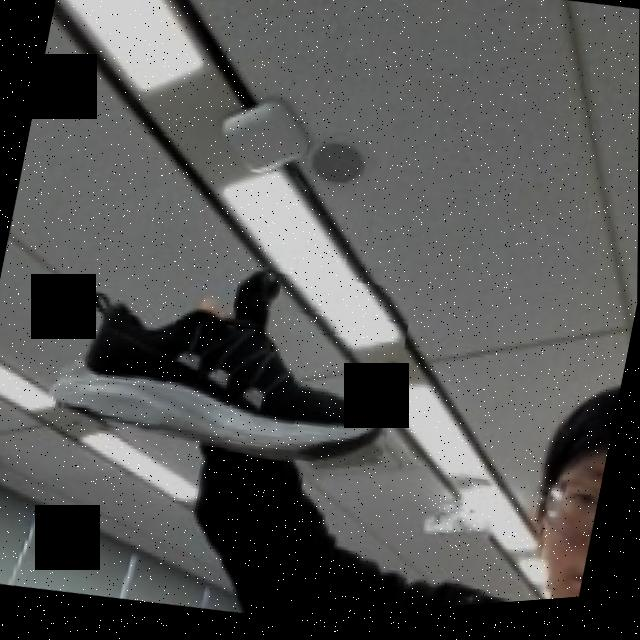shoe: (52, 232, 417, 487)
